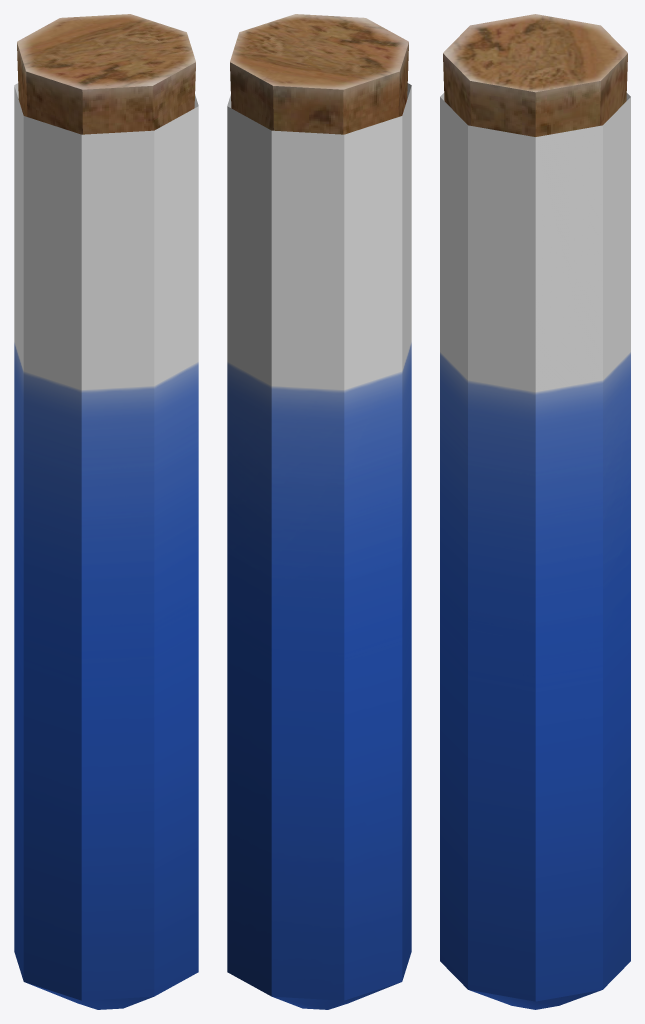
The model's file is mpPlus.fbx.
3 views of the same model, side by side, from view 1: azimuth 30°, elevation 25°; view 2: azimuth 150°, elevation 25°; view 3: azimuth 270°, elevation 25° (orthographic).
Visible parts, largest first — view 1: pCylinder1, pCylinder3; view 2: pCylinder1, pCylinder3; view 3: pCylinder1, pCylinder3.
Part boxes in pixels (<box>): pCylinder1: <box>14,83,198,1009</box>; pCylinder3: <box>17,14,195,134</box>; pCylinder1: <box>227,83,411,1009</box>; pCylinder3: <box>230,14,408,134</box>; pCylinder1: <box>440,93,630,1009</box>; pCylinder3: <box>443,14,627,136</box>.
Bounding box in the file's own units: 0.6 × 3.27 × 0.6.
